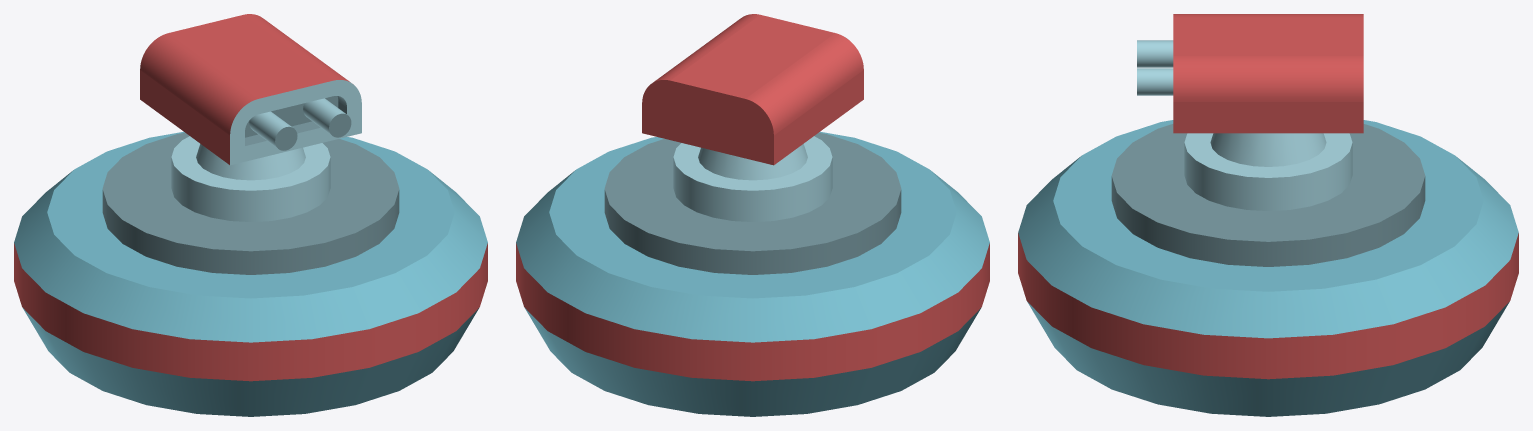
The model's file is enemy_ufoRedWeapon.dae.
3 renders of one model, left to right at view 1: azimuth 30°, elevation 25°; view 2: azimuth 150°, elevation 25°; view 3: azimuth 270°, elevation 25°, orthographic. The views are drawn at different scales.
Visible parts, largest first — view 1: enemy_ufoRedWeapon; view 2: enemy_ufoRedWeapon; view 3: enemy_ufoRedWeapon.
Part boxes in pixels (<box>): enemy_ufoRedWeapon: <box>14,14,487,416</box>; enemy_ufoRedWeapon: <box>516,14,989,416</box>; enemy_ufoRedWeapon: <box>1018,14,1518,416</box>.
Bounding box in the file's own units: 1 × 0.6321 × 1.
